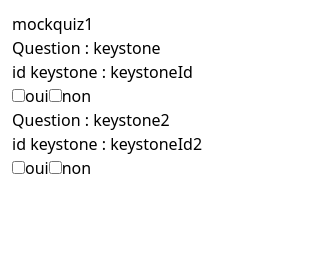
Test: QCMDisplay integration test › Component should display tree true question on click
The image size is (332, 263).
Click the checkbox with test id "oui-checkbox-keystoneId" at [18, 96], box [12, 89, 25, 102]
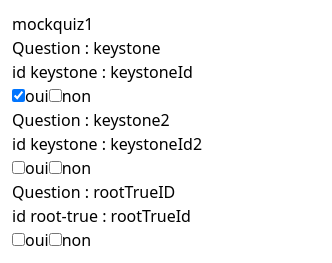
Click the checkbox with test id "oui-checkbox-keystoneId2" at [18, 168], box [12, 161, 25, 174]
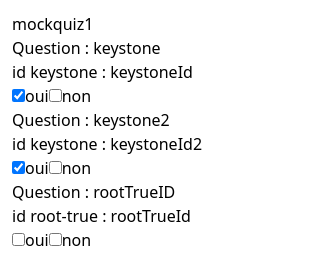
Click the checkbox with test id "oui-checkbox-rootTrueId" at [18, 240], box [12, 233, 25, 246]
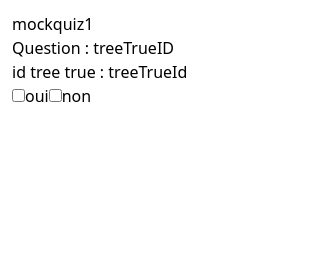
Result: the heading "Question : treeTrueID" is shown at [12, 37, 174, 59]
